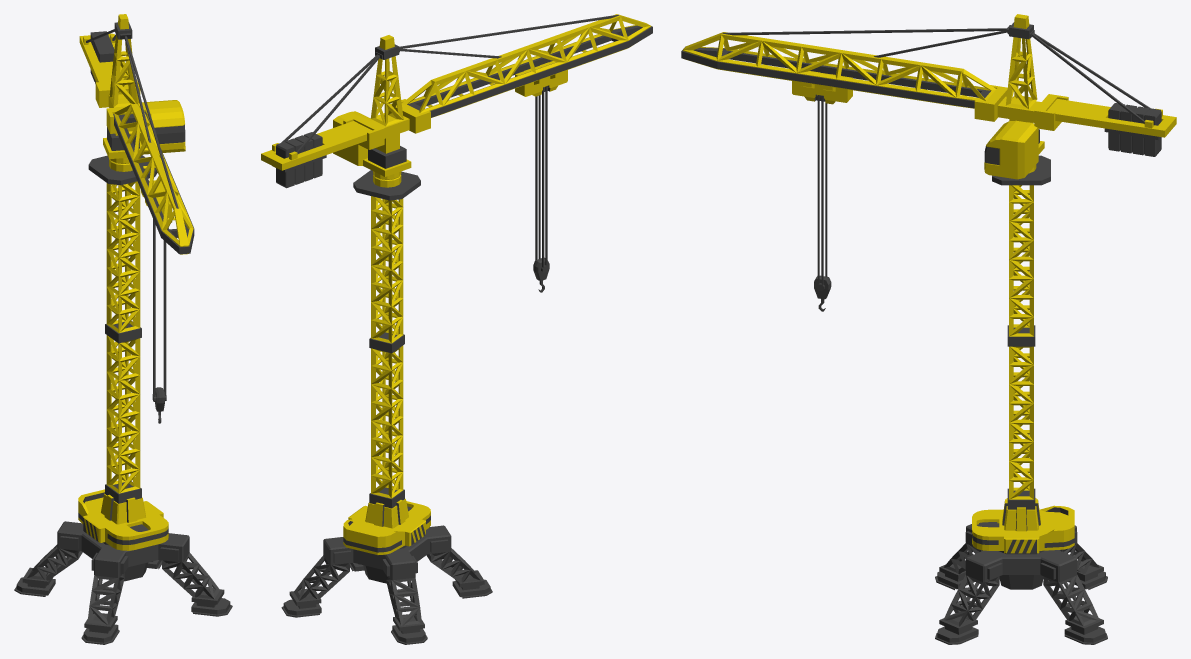
The model's file is crane.fbx.
3 renders of one model, left to right at view 1: azimuth 30°, elevation 25°; view 2: azimuth 150°, elevation 25°; view 3: azimuth 270°, elevation 25°, orthographic. The views are drawn at different scales.
Visible parts, largest first — view 1: base stand.001; view 2: base stand.001; view 3: base stand.001.
Boxes of the visible parts, bbox=[...] form: base stand.001: bbox=[14, 14, 232, 644]; base stand.001: bbox=[261, 14, 652, 644]; base stand.001: bbox=[681, 14, 1176, 644].
Bounding box in the file's own units: 2028 × 6170 × 4678.
